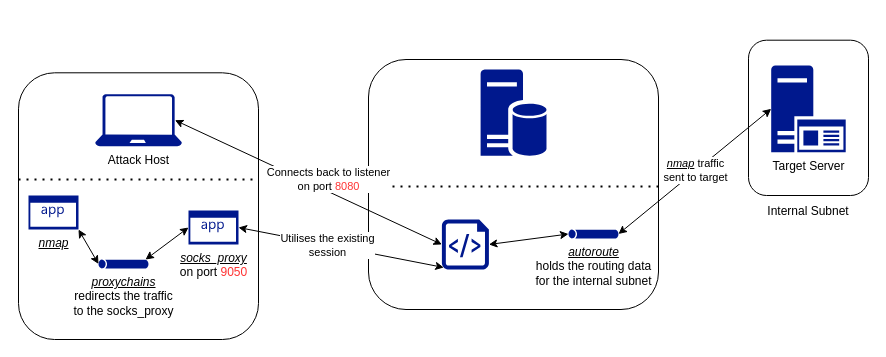
This 886x357 diagram has some shape labels left out. Here are the shapes that lost their labels. From the top down, the centre of each, then its label:
At point (513, 112): "Pivot Host".
At point (464, 244): "Meterpreter Session".
